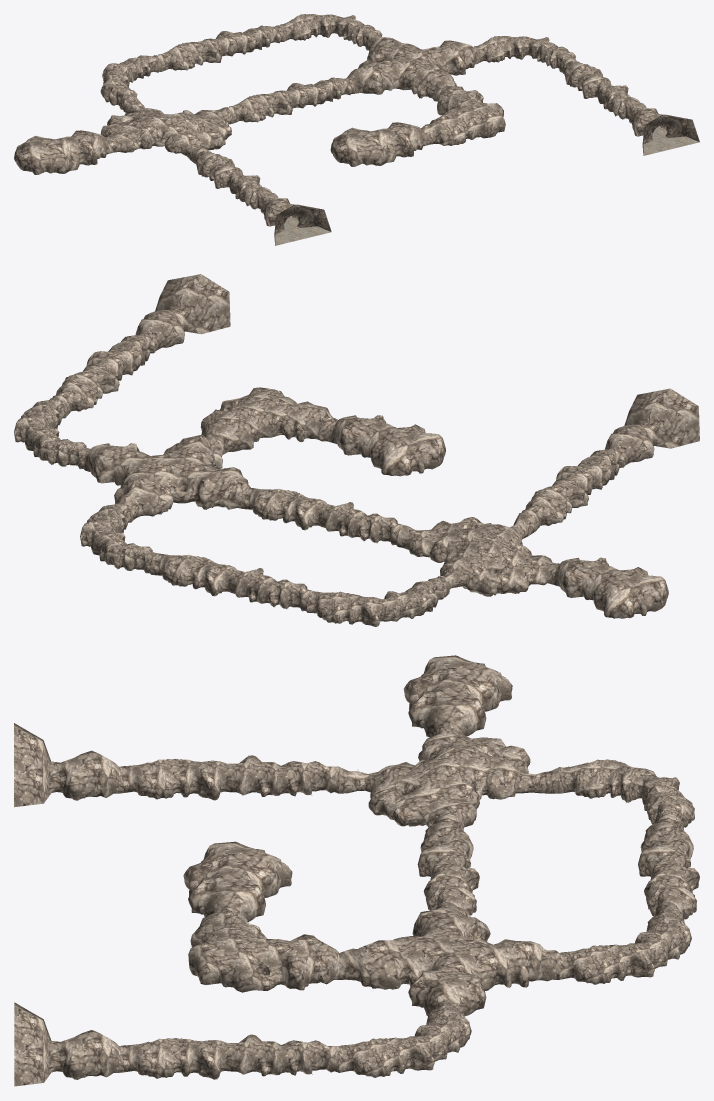
Rendered from ligLoc.FBX.
The picture shows the model from 3 angles, top to bottom: view 1: azimuth 30°, elevation 25°; view 2: azimuth 150°, elevation 25°; view 3: azimuth 270°, elevation 25°; orthographic projection. The views are drawn at different scales.
Parts seen in each view (by area): view 1: Caves_X1_wall, Caves_X2_wall, Caves_L2_wall, Caves_U_wall001, Caves_U_wall, Caves_I_wall002, Caves_I_wall001, Caves_I_wall, Caves_I_wall003, Caves_L_wall001, Caves_L_wall, Caves_L_wall002 (+4 smaller); view 2: Caves_X1_wall, Caves_X2_wall, Caves_L2_wall, Caves_U_wall, Caves_U_wall001, Caves_I_wall002, Caves_I_wall001, Caves_E_wall, Caves_E_wall001, Caves_L_wall002, Caves_I_wall, Caves_I_wall003 (+2 smaller); view 3: Caves_X1_wall, Caves_X2_wall, Caves_L2_wall, Caves_I_wall, Caves_I_wall003, Caves_U_wall001, Caves_U_wall, Caves_E_wall, Caves_E_wall001, Caves_L_wall, Caves_L_wall001, Caves_L_wall002 (+2 smaller).
Boxes of the visible parts, x1,y1,x2,y2 form: Caves_X1_wall: (347,36,477,101); Caves_X2_wall: (101,96,232,163); Caves_L2_wall: (421,86,505,145); Caves_U_wall001: (14,130,109,174); Caves_U_wall: (330,122,425,166); Caves_I_wall002: (157,25,284,71); Caves_I_wall001: (228,77,355,123); Caves_I_wall: (562,58,646,123); Caves_I_wall003: (194,148,278,213); Caves_L_wall001: (280,14,382,50); Caves_L_wall: (473,36,575,72); Caves_L_wall002: (100,55,161,109); Caves_X1_wall: (84,434,250,520); Caves_X2_wall: (397,511,559,596); Caves_L2_wall: (200,387,337,454); Caves_U_wall: (331,415,445,476); Caves_U_wall001: (554,557,668,618); Caves_I_wall002: (150,553,314,612); Caves_I_wall001: (241,487,405,546); Caves_E_wall: (135,274,230,350); Caves_E_wall001: (605,388,699,464); Caves_L_wall002: (307,578,446,626); Caves_I_wall: (52,331,157,415); Caves_I_wall003: (522,445,627,530); Caves_X1_wall: (339,904,559,1016); Caves_X2_wall: (339,720,559,828); Caves_L2_wall: (188,906,339,992); Caves_I_wall: (119,1034,339,1079); Caves_I_wall003: (119,755,338,800); Caves_U_wall001: (403,655,512,737); Caves_U_wall: (183,841,292,921); Caves_E_wall: (14,1002,118,1086); Caves_E_wall001: (14,723,118,807); Caves_L_wall: (339,1000,471,1077); Caves_L_wall001: (559,906,691,984); Caves_L_wall002: (559,759,694,827).
Size of the model in its own units: 9997 by 7089 by 671.
